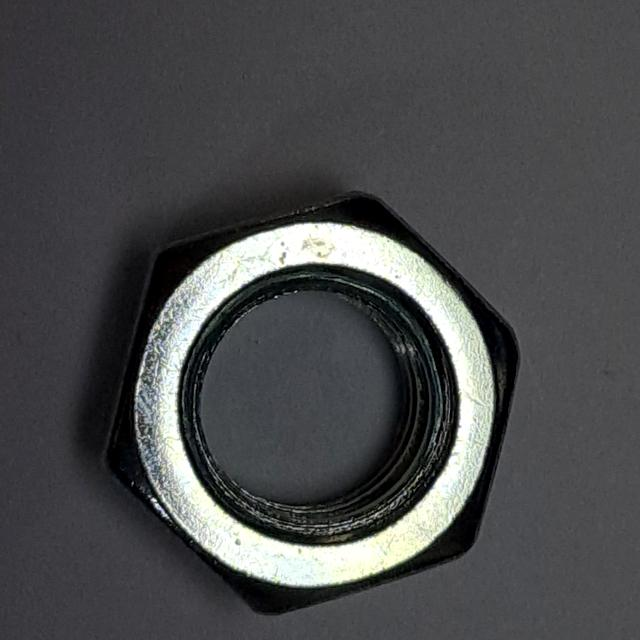Excellent: (89, 174, 533, 629)
